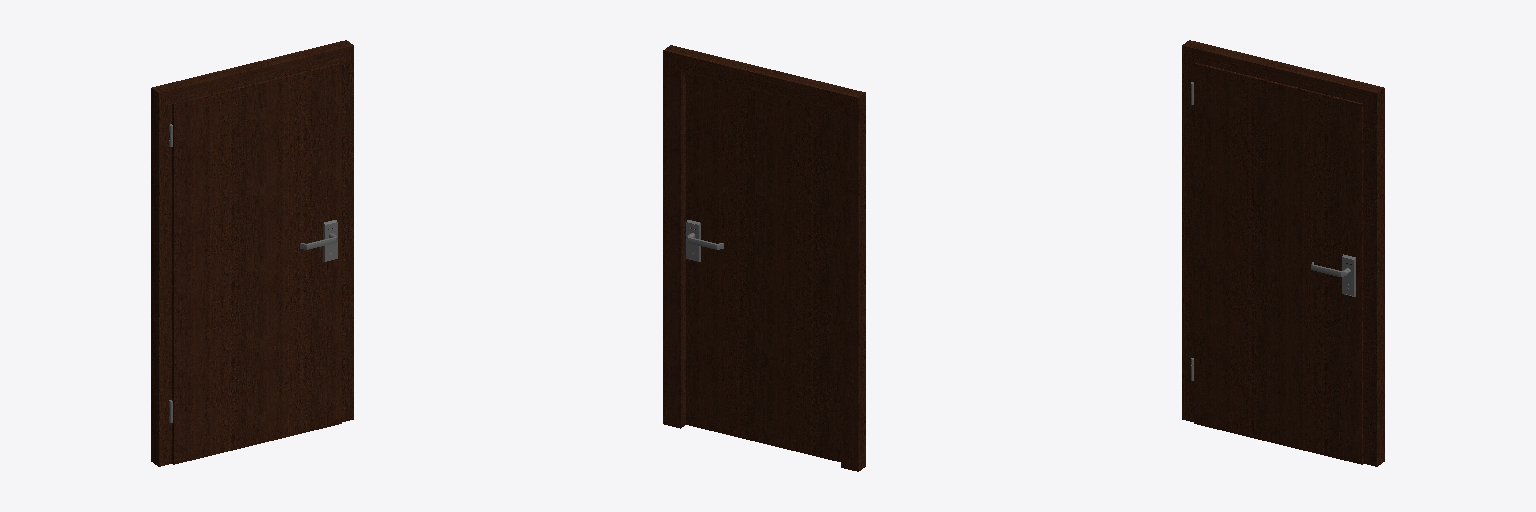
3 renders of one model, left to right at view 1: azimuth 30°, elevation 25°; view 2: azimuth 150°, elevation 25°; view 3: azimuth 330°, elevation 25°, orthographic.
Parts seen in each view (by area): view 1: AM109_041_00, AM109_041_01; view 2: AM109_041_00, AM109_041_01; view 3: AM109_041_00, AM109_041_01.
Part boxes in pixels (x1,y1,x2,y2): AM109_041_00: (170, 63, 341, 464); AM109_041_01: (151, 40, 353, 466); AM109_041_00: (686, 74, 840, 461); AM109_041_01: (663, 45, 865, 471); AM109_041_00: (1191, 63, 1362, 464); AM109_041_01: (1182, 40, 1384, 466).
Bounding box in the file's own units: 34 × 62.22 × 5.85.
Materials: 2 (1 with a texture image).